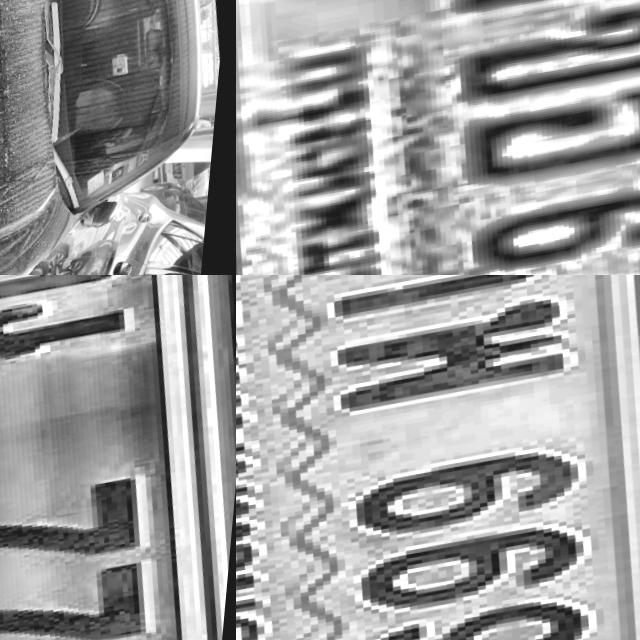license-plate: (236, 275, 640, 640), (236, 0, 640, 275), (0, 275, 236, 640)
